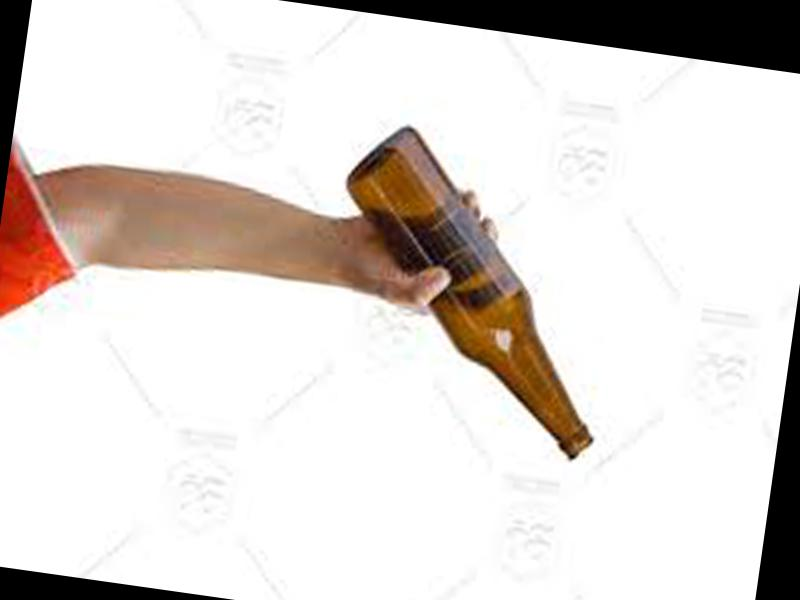Beer: (312, 116, 632, 460)
